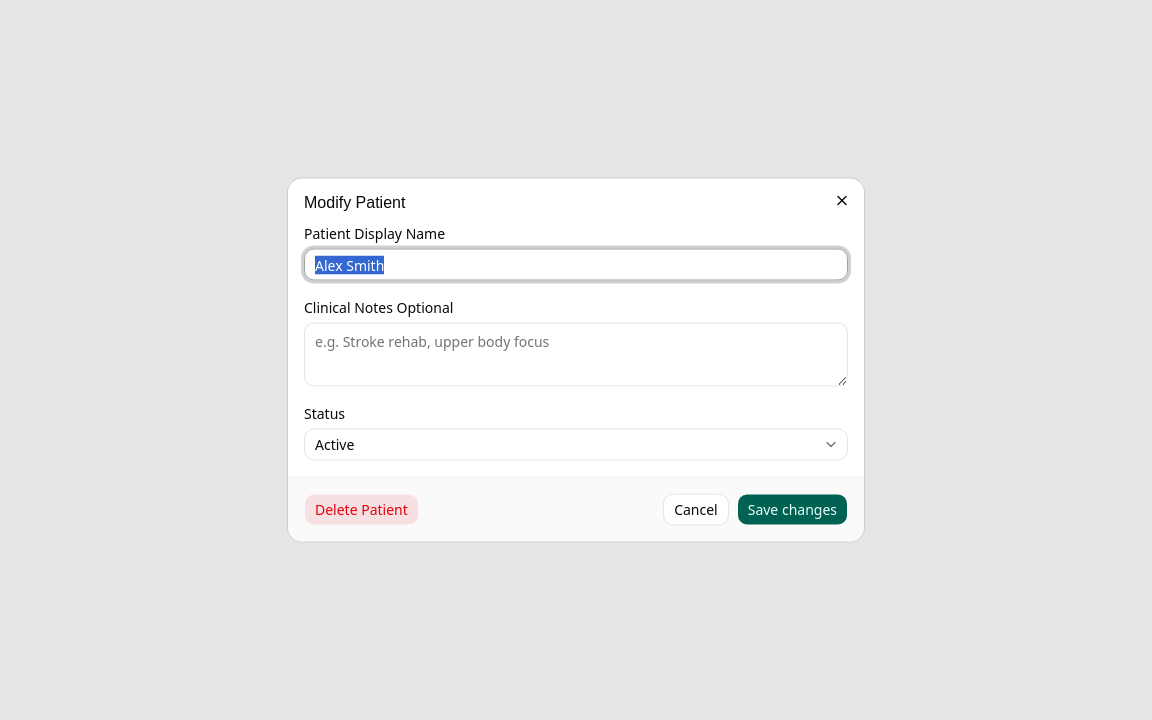
Test: ModifyPatientDialog › saving › locks the dialog while the save is in flight
Click the button "Save changes": (792, 510) [737,494,848,526]
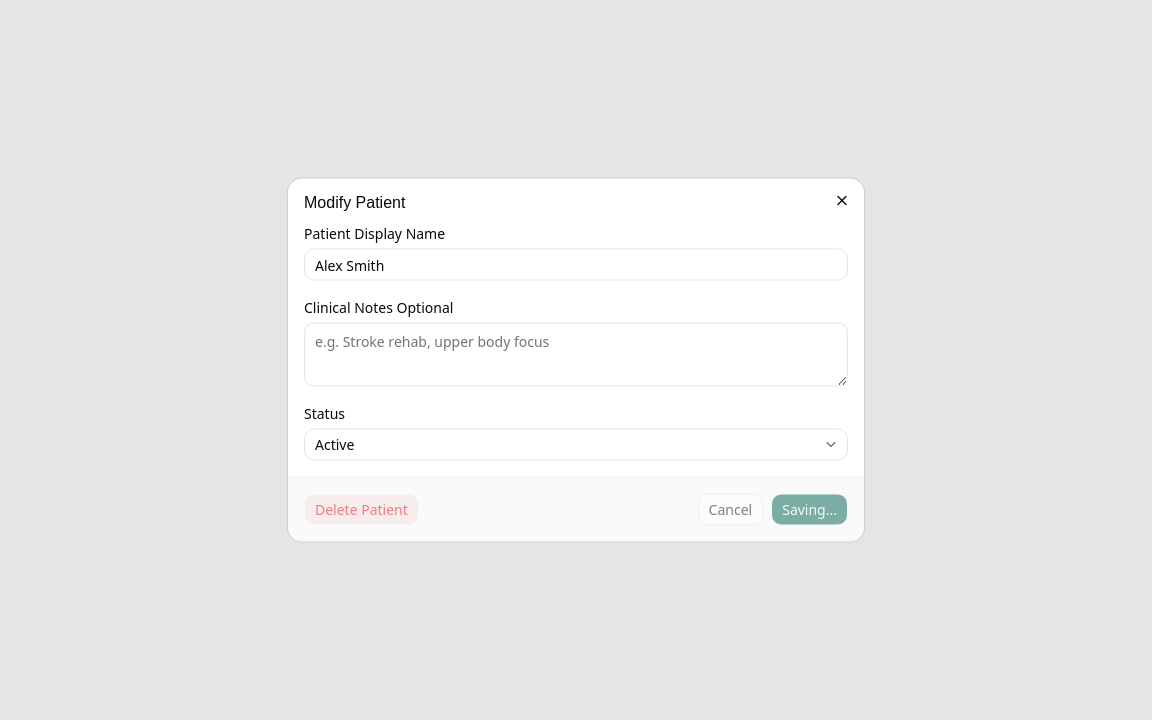
Check: the button "Saving..." is disabled, box [771,494,848,526]
Check: the button "Cancel" is disabled, box [698,494,763,526]
Check: the button "Delete Patient" is disabled, box [304,494,419,526]
